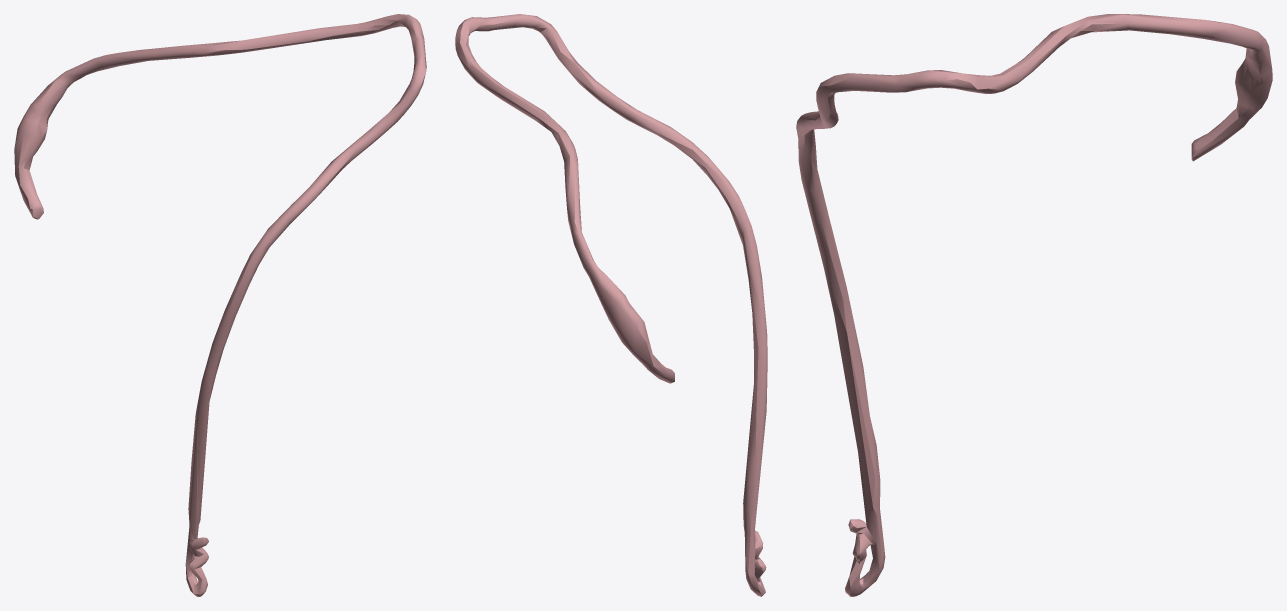
The model's file is fma19236_fj3135.glb.
The picture shows the model from 3 angles, left to right: view 1: azimuth 30°, elevation 25°; view 2: azimuth 150°, elevation 25°; view 3: azimuth 270°, elevation 25°; orthographic projection. The views are drawn at different scales.
Visible parts, largest first — view 1: FMA19236_FJ3135; view 2: FMA19236_FJ3135; view 3: FMA19236_FJ3135.
Boxes of the visible parts, x1,y1,x2,y2 form: FMA19236_FJ3135: (14, 14, 426, 596); FMA19236_FJ3135: (455, 14, 767, 596); FMA19236_FJ3135: (796, 14, 1272, 596).
Bounding box in the file's own units: 0.1001 × 0.1632 × 0.1022.
